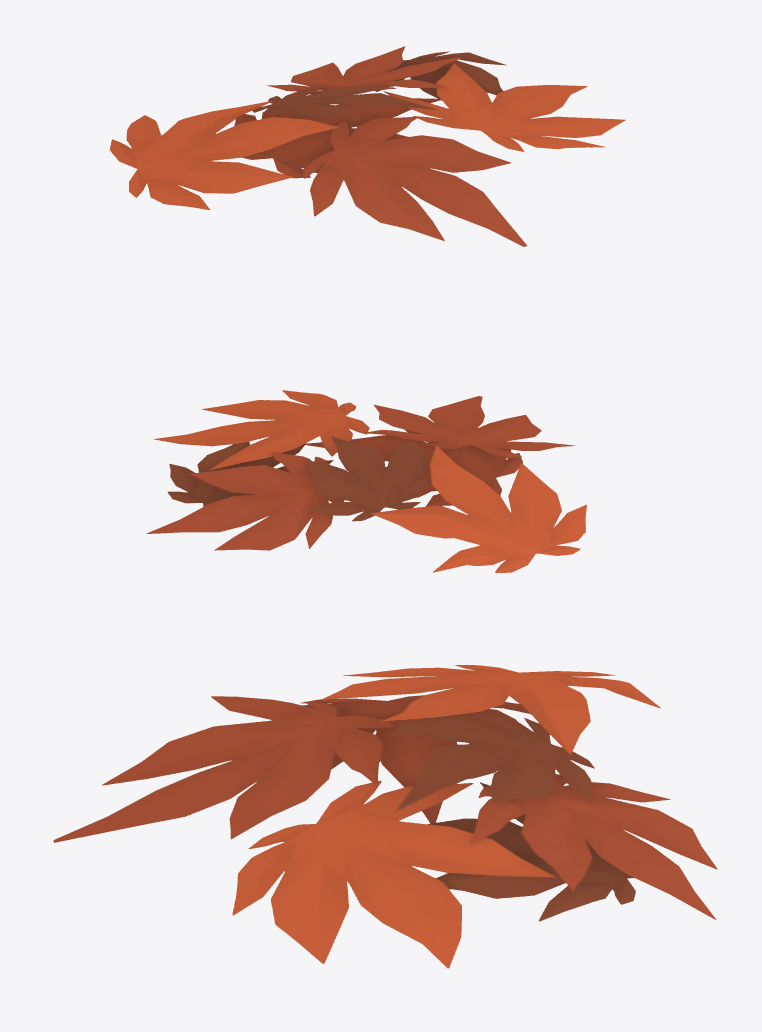
Rendered from SM_Env_Ginko_Small_04.fbx.
3 renders of one model, top to bottom at view 1: azimuth 30°, elevation 25°; view 2: azimuth 150°, elevation 25°; view 3: azimuth 270°, elevation 25°, orthographic. The views are drawn at different scales.
Parts seen in each view (by area): view 1: SM_Env_Ginko_Small_04; view 2: SM_Env_Ginko_Small_04; view 3: SM_Env_Ginko_Small_04.
Part boxes in pixels (x1=…): SM_Env_Ginko_Small_04: x1=110, y1=46, x2=625, y2=246; SM_Env_Ginko_Small_04: x1=146, y1=390, x2=586, y2=573; SM_Env_Ginko_Small_04: x1=53, y1=665, x2=717, y2=968.
Bounding box in the file's own units: 91.35 × 9.25 × 78.98.
